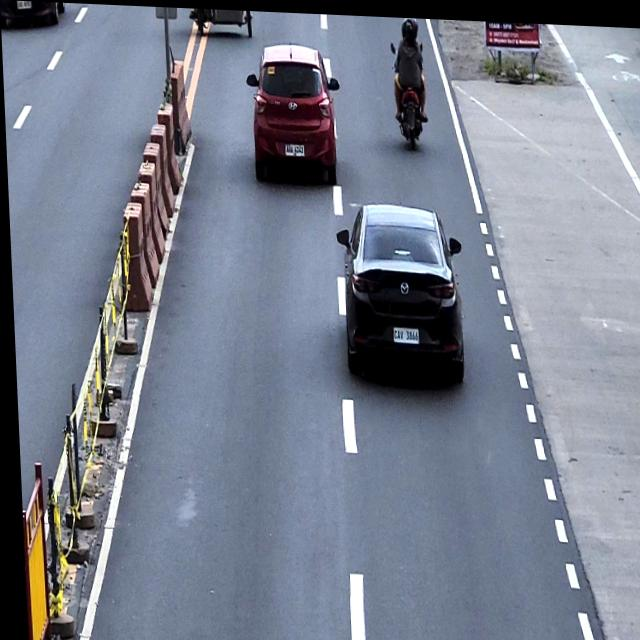Car: (333, 198, 465, 380), (244, 38, 342, 182)
License-Plate: (389, 321, 417, 341), (282, 140, 305, 155)
Motorcycle: (390, 37, 428, 147)
